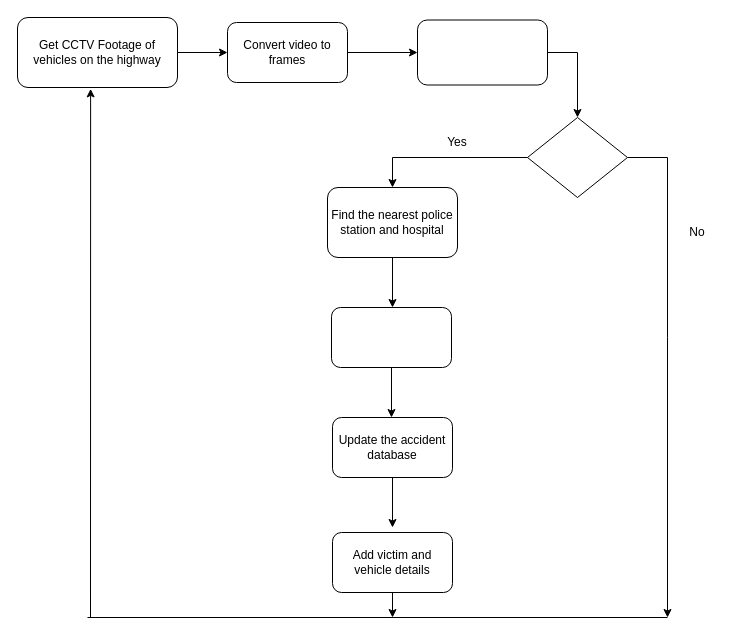
This 745x643 diagram has some shape labels left out. Here are the shapes that lost their labels. From the top down, the centre of each, then its label:
At pixel 482 52: "Send frame to VGG16 Model for detection".
At pixel 577 157: "Accident detected".
At pixel 391 337: "Alert the emergency services".
